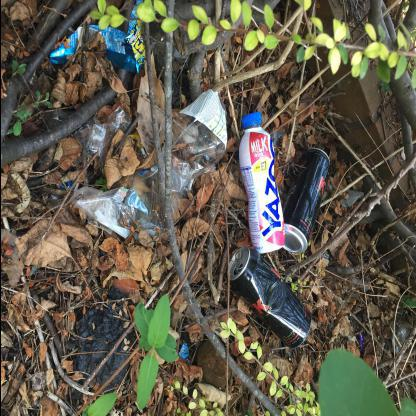metal: (227, 247, 312, 350), (281, 149, 331, 255)
plastik: (239, 112, 285, 256)
